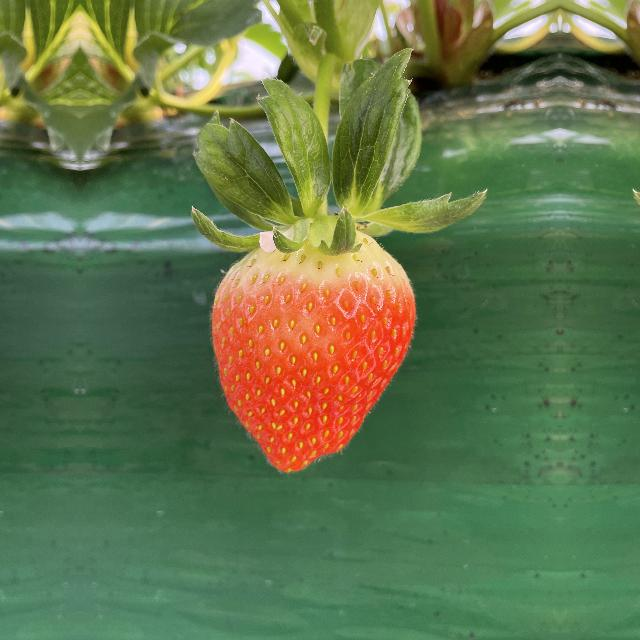Health_100: (202, 222, 414, 478)
